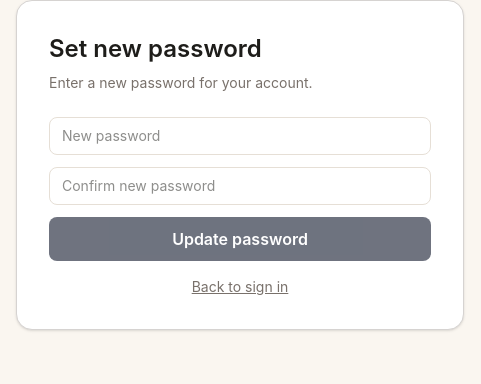
Test: reset-password confirmation (focused) › shows success after API success
Type "new" into the password field with placeholder "New password".
click(240, 136); type("new")  # box 49,117 -> 431,155
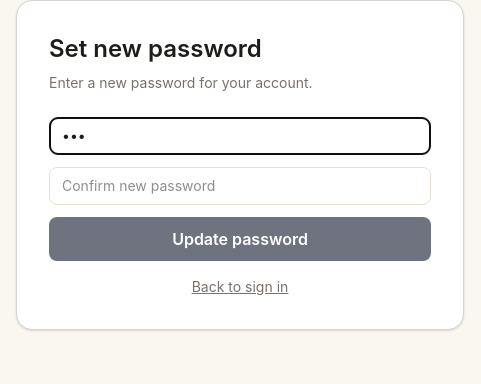
Type "new" into the password field with placeholder "Confirm new password".
click(240, 186); type("new")  # box 49,167 -> 431,205
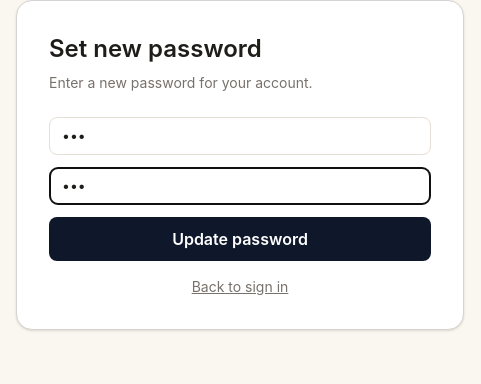
Click the button "Update password".
click(240, 239)  # box 49,217 -> 431,261
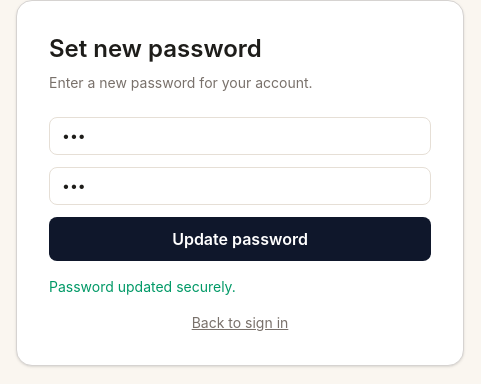
Check: the text "Password updated securely." is shown, box 49,278 -> 236,295
